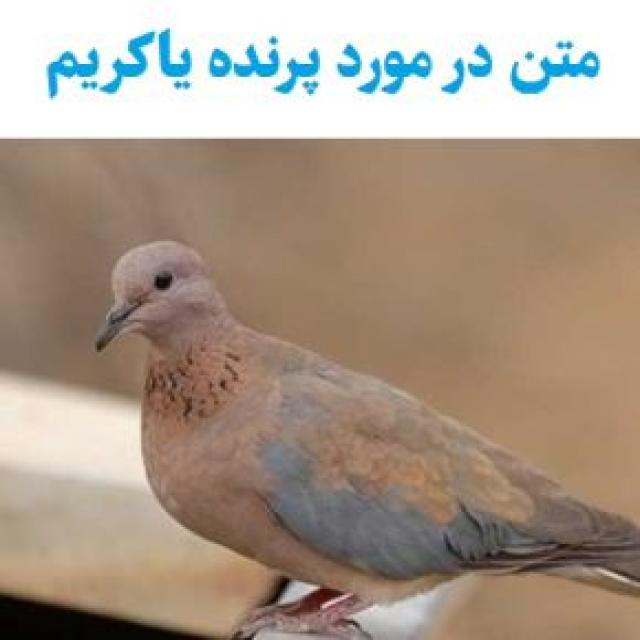dove: (85, 238, 640, 636)
